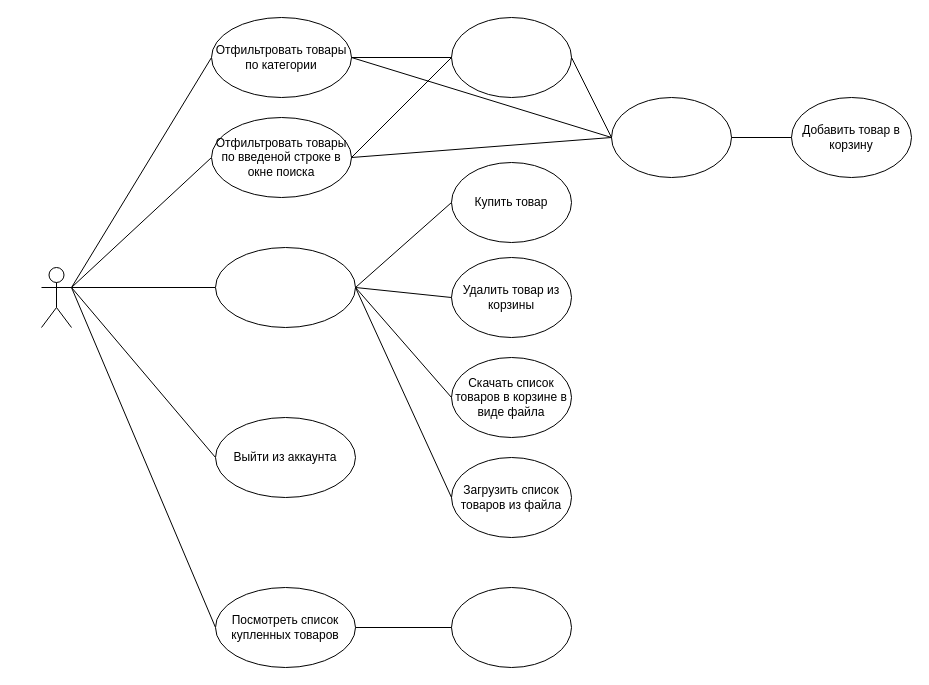
Some shapes in this 929 by 685 pixel diagram are drawn without their labels. Here are the shapes that lost their labels. From the top down, the centre of each, then its label:
At [511,57]: "Отстортировать товары по цене".
At [671,137]: "Зайти на страницу с информацией о товаре".
At [56,297]: "Пользователь".
At [285,287]: "Посмотреть товары в корзине".
At [511,627]: "Скачать список купленных товаров виде файла".
